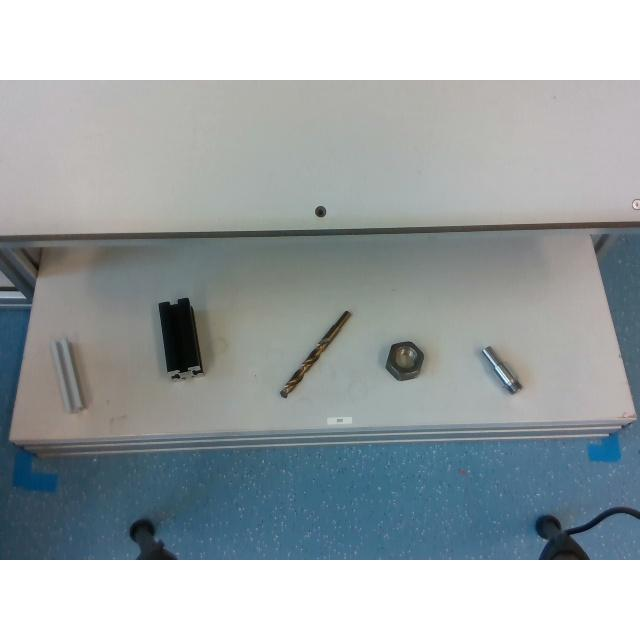Axis2: (481, 346, 521, 392)
Drill: (278, 311, 349, 397)
F20_20_G: (52, 338, 84, 410)
M30: (385, 341, 423, 379)
S40_40_B: (158, 297, 202, 377)
